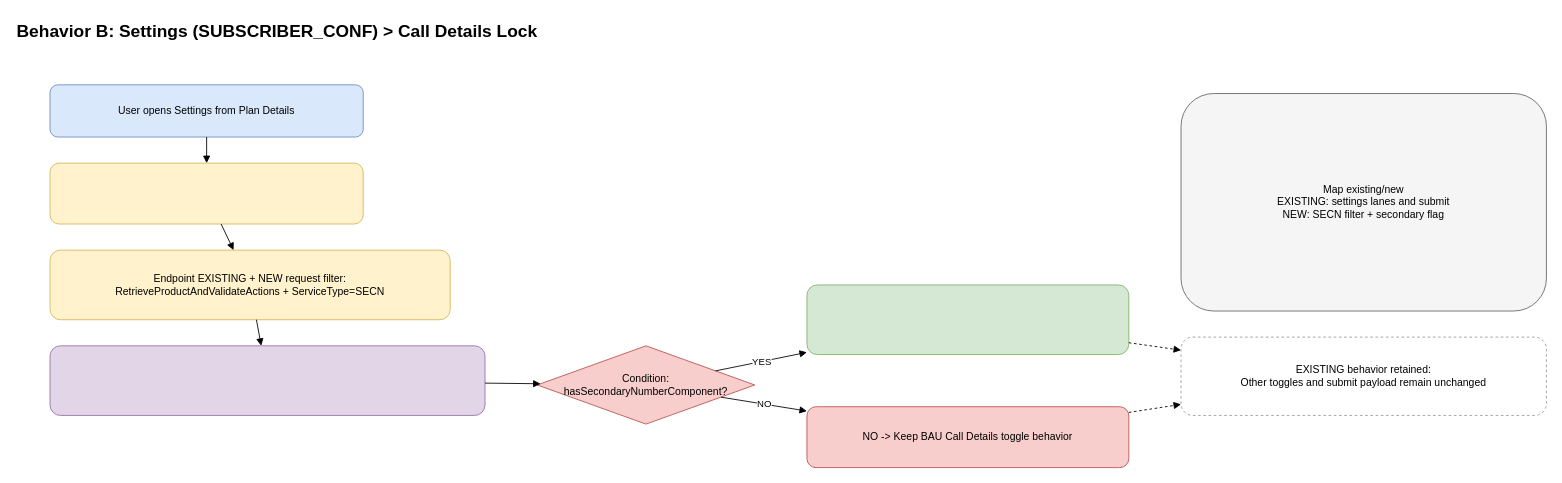
Image size: 1562x483. Some labels were removed from this diagram. The shapes that lost their labels are listed below. From the top down, each one's centre as x and y in pixels, then its label:
[206,193]: API EXISTING path: OrderApi.retrieveProductAction
[967,319]: YES -> NEW behavior: Disable only Call Details toggle
[267,380]: Map existing/new Reuse apRelatedUserAction NEW: hasSecondaryNumberComponent flag
